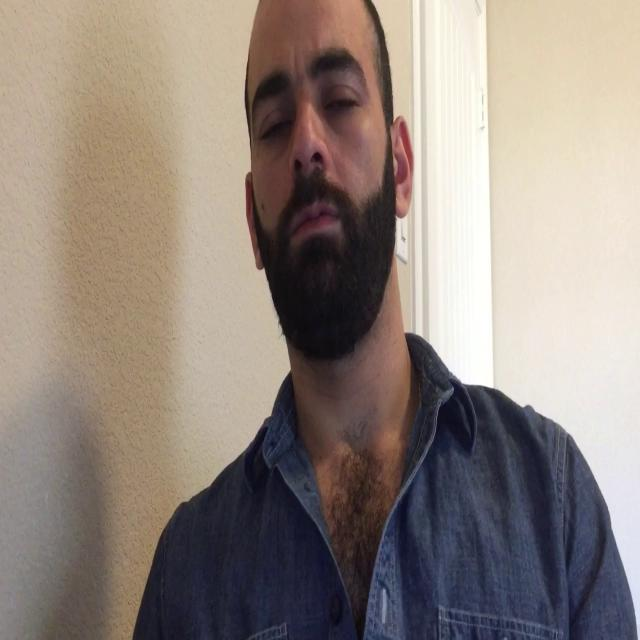Eyeclosed: (324, 90, 360, 119), (261, 113, 292, 143)
